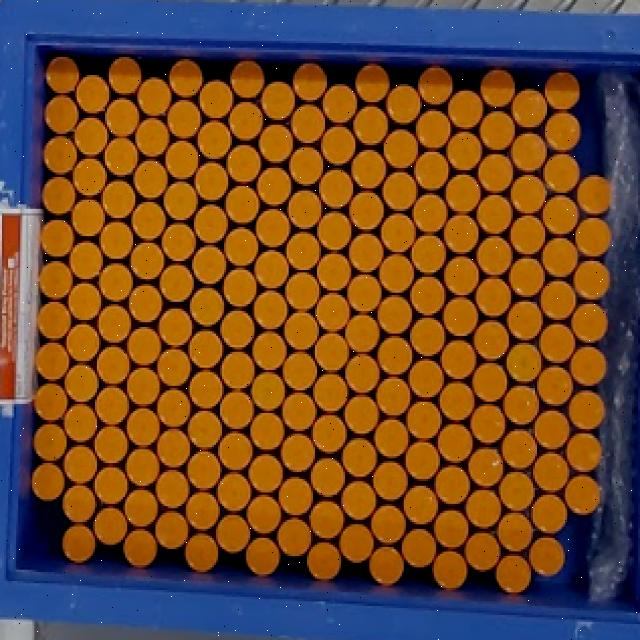vials: (510, 132, 548, 173), (536, 365, 574, 406), (506, 301, 544, 341), (352, 105, 389, 146), (442, 296, 479, 337), (541, 237, 578, 278), (502, 385, 539, 426), (532, 452, 569, 493), (564, 475, 601, 516), (531, 493, 568, 534), (464, 531, 501, 572), (341, 437, 378, 478), (511, 89, 548, 129), (381, 171, 418, 211), (542, 195, 579, 235), (544, 153, 580, 194), (510, 215, 546, 256), (475, 277, 511, 318), (409, 358, 445, 399), (439, 381, 475, 422), (470, 403, 506, 444), (474, 320, 510, 361), (509, 257, 545, 298), (574, 260, 610, 301), (539, 323, 575, 364), (506, 343, 542, 384), (534, 409, 570, 450), (468, 447, 504, 488), (498, 511, 534, 552), (465, 489, 501, 530), (372, 461, 408, 502), (576, 174, 611, 216), (571, 304, 608, 343), (501, 430, 538, 469), (432, 551, 469, 590), (312, 374, 349, 413), (311, 415, 348, 454), (292, 63, 328, 103), (322, 84, 358, 124), (446, 131, 482, 171), (545, 112, 581, 152), (478, 153, 514, 193), (445, 174, 481, 214), (476, 195, 512, 235), (510, 174, 546, 214), (256, 167, 292, 207), (72, 157, 108, 197), (406, 400, 442, 440), (540, 280, 576, 320), (570, 346, 606, 386), (569, 391, 605, 431), (499, 471, 535, 511), (529, 537, 565, 577), (282, 351, 318, 391), (215, 514, 251, 554), (276, 517, 312, 557), (309, 500, 345, 540), (386, 84, 421, 125), (321, 125, 356, 166), (414, 150, 449, 191), (351, 149, 386, 190), (105, 97, 140, 138), (191, 244, 226, 285), (220, 309, 255, 350), (280, 433, 315, 474), (404, 485, 439, 526), (371, 504, 406, 545), (401, 528, 436, 569), (418, 66, 454, 105), (448, 90, 484, 129), (479, 111, 515, 150), (412, 194, 448, 233), (476, 236, 512, 275), (380, 214, 416, 253), (410, 277, 446, 316), (410, 318, 446, 357), (440, 340, 476, 379), (472, 363, 508, 402), (575, 218, 611, 257), (495, 554, 531, 593), (434, 465, 470, 504), (92, 507, 128, 546), (245, 537, 281, 576), (75, 74, 110, 114), (260, 81, 295, 121), (355, 63, 390, 103), (384, 129, 419, 169), (229, 101, 264, 141), (319, 169, 354, 209), (349, 233, 384, 273), (379, 254, 414, 294), (225, 185, 260, 225), (190, 287, 225, 327), (315, 292, 350, 332), (405, 441, 440, 481), (434, 509, 469, 549), (69, 240, 104, 280), (34, 382, 69, 422), (155, 469, 190, 509), (279, 476, 314, 516), (341, 481, 376, 521), (339, 523, 374, 563), (45, 94, 79, 135), (438, 423, 472, 464), (544, 72, 580, 110), (122, 530, 158, 568), (169, 59, 204, 98), (199, 80, 234, 119), (290, 104, 325, 143), (416, 110, 451, 149), (480, 69, 515, 108), (444, 215, 479, 254), (349, 191, 384, 230), (411, 235, 446, 274), (444, 256, 479, 295), (259, 124, 294, 163), (289, 146, 324, 185), (194, 162, 229, 201), (255, 208, 290, 247), (286, 232, 321, 271), (254, 250, 289, 289), (135, 118, 170, 157), (74, 117, 109, 156), (104, 138, 139, 177), (101, 180, 136, 219), (131, 201, 166, 240), (161, 222, 196, 261), (194, 204, 229, 243), (224, 228, 259, 267), (99, 221, 134, 260), (314, 333, 349, 372), (345, 354, 380, 393), (376, 377, 411, 416), (374, 419, 409, 458), (566, 433, 601, 472), (99, 263, 134, 302), (189, 370, 224, 409), (64, 364, 99, 403), (186, 451, 221, 490), (250, 412, 285, 451), (249, 454, 284, 493), (216, 472, 251, 511), (185, 492, 220, 531), (184, 533, 219, 572), (246, 495, 281, 534), (344, 395, 379, 434), (310, 458, 345, 497), (369, 547, 404, 586), (108, 56, 142, 96), (164, 181, 198, 221), (134, 160, 168, 200), (222, 268, 256, 308), (251, 372, 285, 412), (188, 410, 222, 450), (36, 341, 70, 381), (95, 386, 129, 426), (126, 407, 160, 447), (64, 403, 98, 443), (31, 462, 65, 502), (230, 60, 265, 98), (226, 145, 261, 183), (285, 273, 320, 311), (316, 253, 351, 291), (130, 242, 165, 280), (284, 312, 319, 350), (345, 315, 380, 353), (40, 219, 75, 257), (189, 330, 224, 368), (220, 351, 255, 389), (94, 426, 129, 464), (125, 448, 160, 486), (124, 489, 159, 527), (306, 542, 341, 580), (288, 190, 322, 229), (378, 295, 412, 334), (198, 121, 232, 160), (165, 141, 199, 180), (42, 176, 76, 215), (71, 198, 105, 237), (254, 291, 288, 330), (378, 336, 412, 375), (158, 308, 192, 347), (220, 391, 254, 430), (252, 332, 286, 371), (282, 392, 316, 431), (66, 323, 100, 362), (96, 346, 130, 385), (126, 367, 160, 406), (156, 429, 190, 468), (62, 524, 96, 563), (155, 510, 189, 549), (138, 77, 171, 117), (219, 431, 252, 471), (94, 467, 129, 504), (46, 56, 80, 94), (44, 136, 78, 174), (160, 264, 194, 302), (34, 423, 68, 461), (64, 445, 98, 483), (62, 485, 96, 523), (318, 211, 351, 250), (348, 274, 381, 313), (168, 100, 201, 139), (129, 284, 162, 323), (39, 261, 72, 300), (38, 301, 71, 340), (128, 326, 161, 365), (158, 388, 191, 427), (68, 282, 101, 320), (98, 305, 131, 343), (158, 348, 191, 386)
